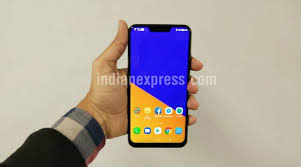asus: (124, 22, 190, 149)
